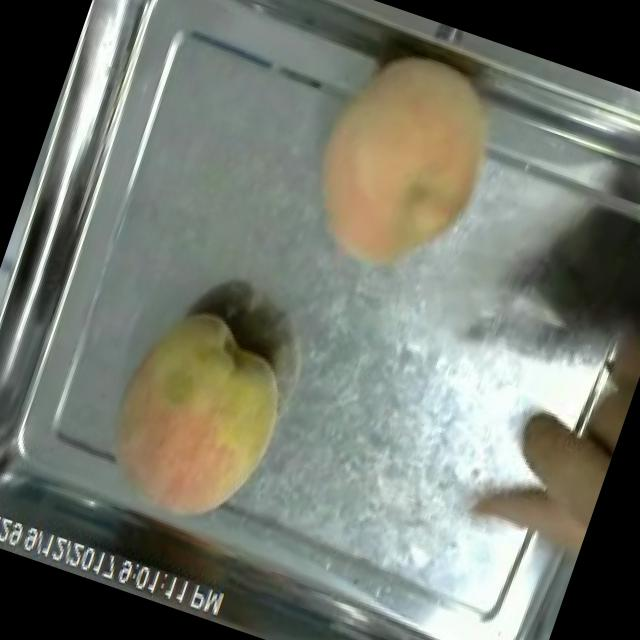Fruit: (278, 24, 526, 304), (81, 286, 315, 548), (474, 396, 621, 581)
